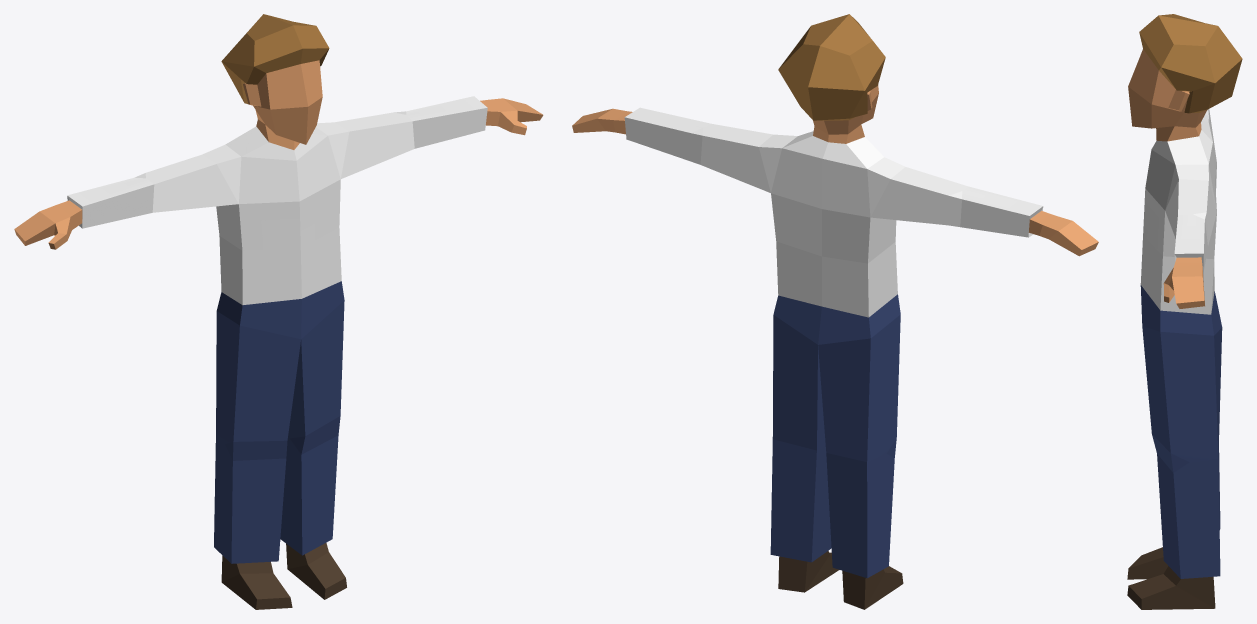
The model's file is people_boy-shirt_rig.fbx.
3 views of the same model, side by side, from view 1: azimuth 30°, elevation 25°; view 2: azimuth 150°, elevation 25°; view 3: azimuth 270°, elevation 25° (orthographic).
Parts seen in each view (by area): view 1: boy_shirt_Rig; view 2: boy_shirt_Rig; view 3: boy_shirt_Rig.
Boxes of the visible parts, x1,y1,x2,y2 form: boy_shirt_Rig: (14, 14, 543, 609); boy_shirt_Rig: (572, 14, 1098, 609); boy_shirt_Rig: (1127, 14, 1242, 609).
Size of the model in its own units: 191 by 200 by 36.49.
